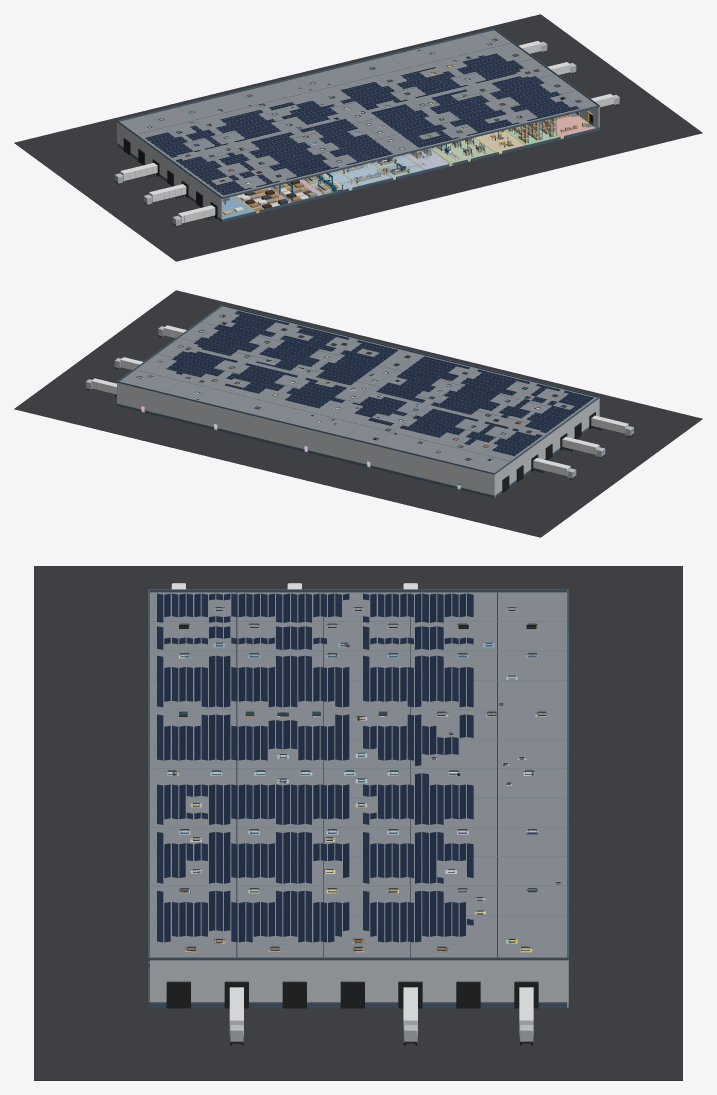
File: core.glb
The picture shows the model from 3 angles, top to bottom: view 1: azimuth 30°, elevation 25°; view 2: azimuth 150°, elevation 25°; view 3: azimuth 270°, elevation 25°; orthographic projection. The views are drawn at different scales.
Visible parts, largest first — view 1: Майданчик і підлога, ROOF-DECK, PV-ROOF, Стіни, Ферми, Z-ASM, Z-PACK, TRUCK-IN-3, TRUCK-IN-2, TRUCK-IN-1, Z-EB, Z-SORT (+2 smaller); view 2: Майданчик і підлога, ROOF-DECK, PV-ROOF, Стіни, Ферми, TRUCK-IN-3, TRUCK-IN-2, TRUCK-IN-1; view 3: Майданчик і підлога, ROOF-DECK, PV-ROOF, Стіни, Ферми, TRUCK-OUT-2, TRUCK-OUT-3, TRUCK-OUT-1.
Boxes of the visible parts, x1,y1,x2,y2 form: Майданчик і підлога: (14,14,702,261); ROOF-DECK: (117,28,599,198); PV-ROOF: (145,53,579,195); Стіни: (117,30,599,222); Ферми: (137,33,583,192); Z-ASM: (426,131,494,163); Z-PACK: (461,126,524,153); TRUCK-IN-3: (114,163,157,184); TRUCK-IN-2: (143,184,186,206); TRUCK-IN-1: (172,205,215,227); Z-EB: (305,137,390,185); Z-SORT: (366,123,451,169); Майданчик і підлога: (14,290,702,537); ROOF-DECK: (117,304,599,474); PV-ROOF: (166,311,593,456); Стіни: (117,306,599,498); Ферми: (134,309,575,465); TRUCK-IN-3: (533,458,576,479); TRUCK-IN-2: (562,436,605,458); TRUCK-IN-1: (591,415,634,437); Майданчик і підлога: (34,566,682,1080); ROOF-DECK: (148,589,568,960); PV-ROOF: (157,593,473,942); Стіни: (148,591,568,1007); Ферми: (150,592,566,957); TRUCK-OUT-2: (403,987,417,1045); TRUCK-OUT-3: (519,987,533,1045); TRUCK-OUT-1: (229,987,243,1045).
Bounding box in the file's own units: 210 × 9.65 × 112.
